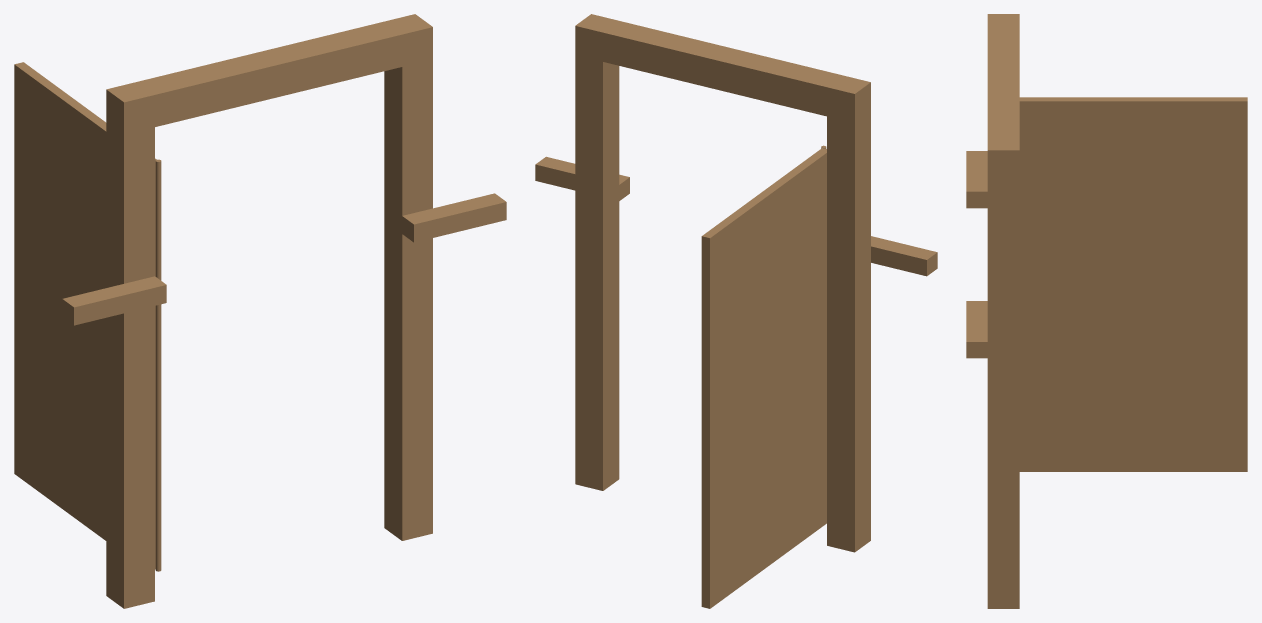
The model's file is assembly.glb.
The picture shows the model from 3 angles, left to right: view 1: azimuth 30°, elevation 25°; view 2: azimuth 150°, elevation 25°; view 3: azimuth 270°, elevation 25°; orthographic projection. The views are drawn at different scales.
Parts seen in each view (by area): view 1: GATE_Door, GATE_Post_Right, GATE_Post_Left, GATE_Beam, GATE_Connector_Left, GATE_Connector_Right, GATE_Axis; view 2: GATE_Door, GATE_Post_Right, GATE_Post_Left, GATE_Beam, GATE_Connector_Left, GATE_Connector_Right; view 3: GATE_Door, GATE_Post_Right, GATE_Beam, GATE_Connector_Left, GATE_Connector_Right.
Boxes of the visible parts, x1=… form: GATE_Door: x1=14, y1=62, x2=156, y2=569; GATE_Post_Right: x1=384, y1=59, x2=432, y2=540; GATE_Post_Left: x1=106, y1=122, x2=154, y2=608; GATE_Beam: x1=106, y1=14, x2=432, y2=134; GATE_Connector_Left: x1=62, y1=276, x2=166, y2=325; GATE_Connector_Right: x1=402, y1=193, x2=506, y2=242; GATE_Axis: x1=155, y1=159, x2=161, y2=571; GATE_Door: x1=701, y1=148, x2=826, y2=608; GATE_Post_Right: x1=575, y1=55, x2=619, y2=490; GATE_Post_Left: x1=827, y1=112, x2=870, y2=552; GATE_Beam: x1=575, y1=14, x2=870, y2=123; GATE_Connector_Left: x1=871, y1=236, x2=937, y2=276; GATE_Connector_Right: x1=535, y1=156, x2=629, y2=200; GATE_Door: x1=1019, y1=97, x2=1247, y2=471; GATE_Post_Right: x1=987, y1=179, x2=1019, y2=608; GATE_Beam: x1=987, y1=14, x2=1019, y2=179; GATE_Connector_Left: x1=966, y1=151, x2=987, y2=208; GATE_Connector_Right: x1=966, y1=301, x2=987, y2=358.
Size of the model in its own units: 2.1 by 2.35 by 1.31.
